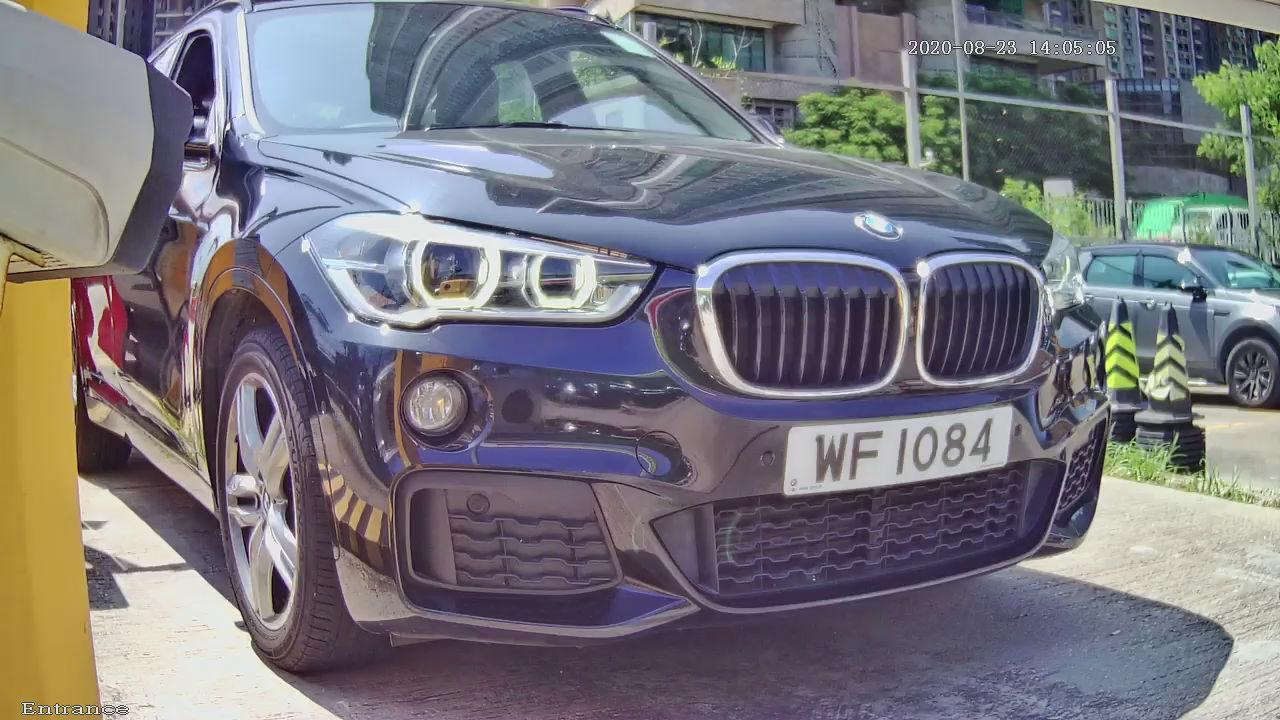Car: (29, 17, 1166, 704)
License Plate: (755, 369, 1092, 520)
